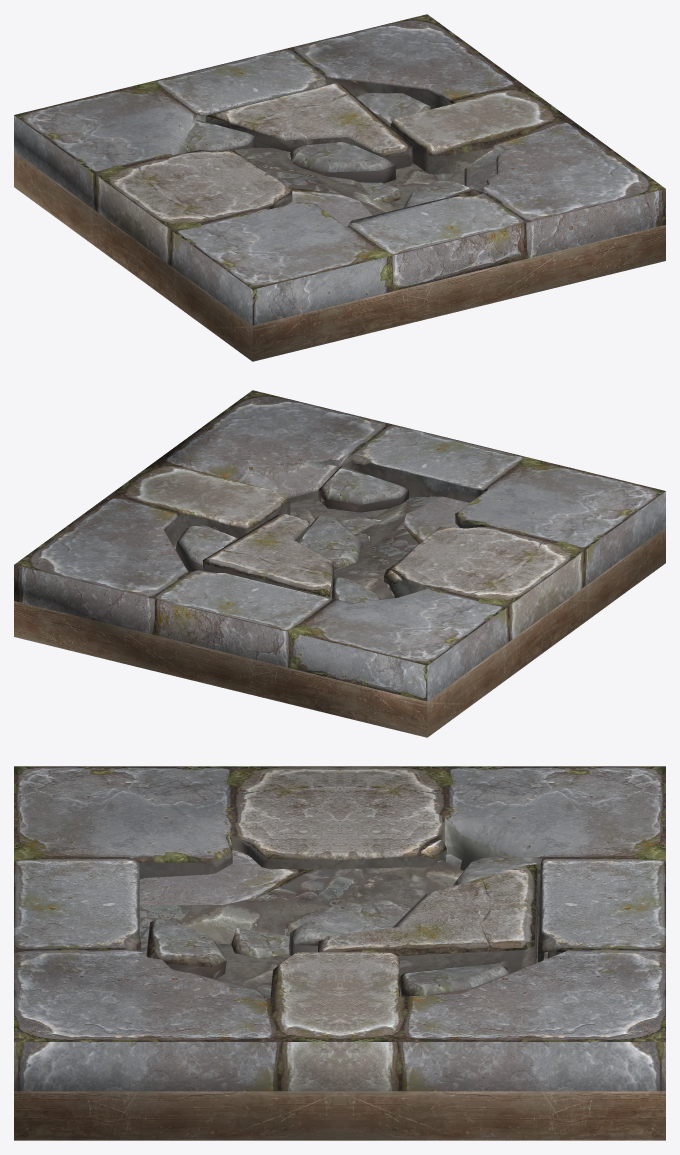
The picture shows the model from 3 angles, top to bottom: view 1: azimuth 30°, elevation 25°; view 2: azimuth 150°, elevation 25°; view 3: azimuth 270°, elevation 25°; orthographic projection. The views are drawn at different scales.
Parts seen in each view (by area): view 1: SM_Greathall_Floor_3x3_Dmg_01_LOD0; view 2: SM_Greathall_Floor_3x3_Dmg_01_LOD0; view 3: SM_Greathall_Floor_3x3_Dmg_01_LOD0.
Boxes of the visible parts, left/top/right/bottom form: SM_Greathall_Floor_3x3_Dmg_01_LOD0: left=14, top=14, right=665, bottom=361; SM_Greathall_Floor_3x3_Dmg_01_LOD0: left=14, top=390, right=665, bottom=737; SM_Greathall_Floor_3x3_Dmg_01_LOD0: left=14, top=766, right=665, bottom=1140.
Size of the model in its own units: 3 by 0.5259 by 3.
3 materials, 3 textured.
